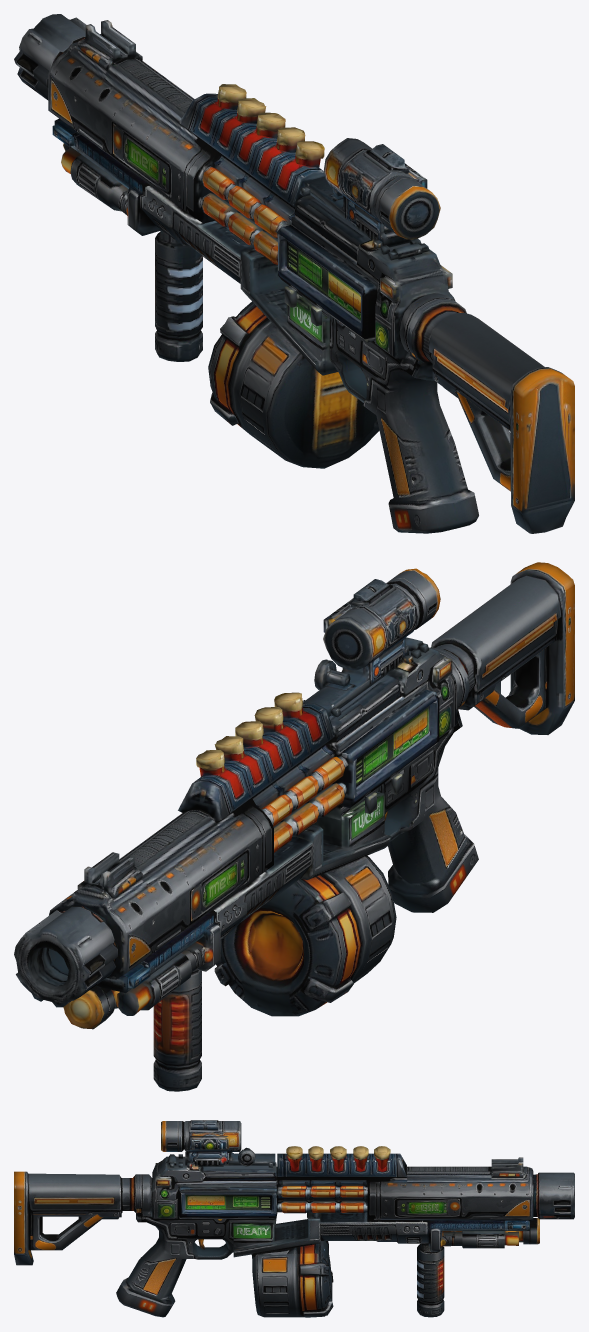
Rendered from 3_Shotgun_futuristic.glb.
3 views of the same model, one above another, from view 1: azimuth 30°, elevation 25°; view 2: azimuth 150°, elevation 25°; view 3: azimuth 270°, elevation 25° (orthographic). The views are drawn at different scales.
Visible parts, largest first — view 1: tripo_node_c2afde00-7bbd-4d05-9992-c8487c522c1b; view 2: tripo_node_c2afde00-7bbd-4d05-9992-c8487c522c1b; view 3: tripo_node_c2afde00-7bbd-4d05-9992-c8487c522c1b.
Part boxes in pixels (bbox=[...]): tripo_node_c2afde00-7bbd-4d05-9992-c8487c522c1b: bbox=[14, 14, 574, 533]; tripo_node_c2afde00-7bbd-4d05-9992-c8487c522c1b: bbox=[14, 562, 574, 1091]; tripo_node_c2afde00-7bbd-4d05-9992-c8487c522c1b: bbox=[14, 1120, 574, 1317].
Bounding box in the file's own units: 0.1543 × 0.3887 × 0.998.
1 material, 1 textured.
